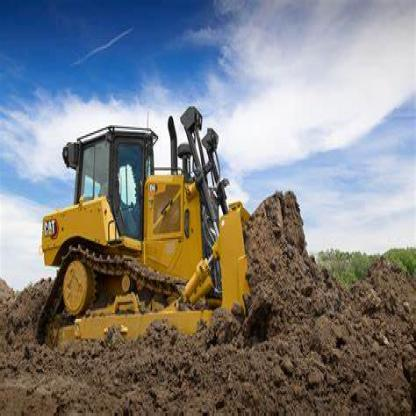bull_dozer/loader/grader: (29, 89, 269, 364)
